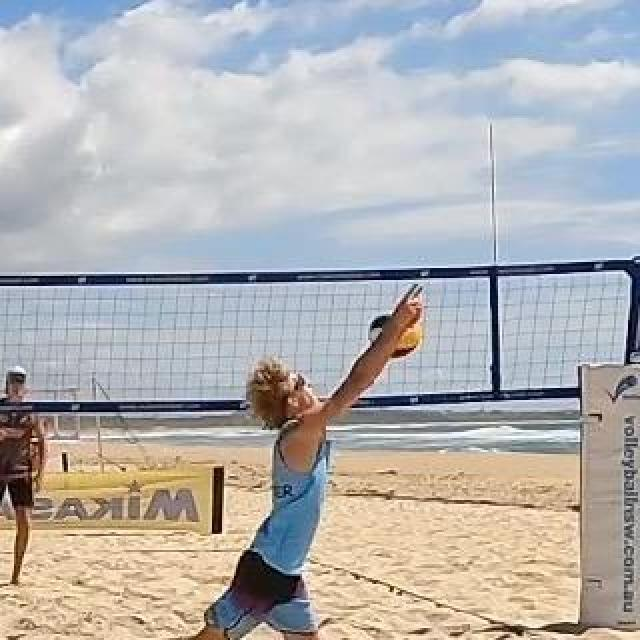volleyball: (369, 311, 421, 357)
